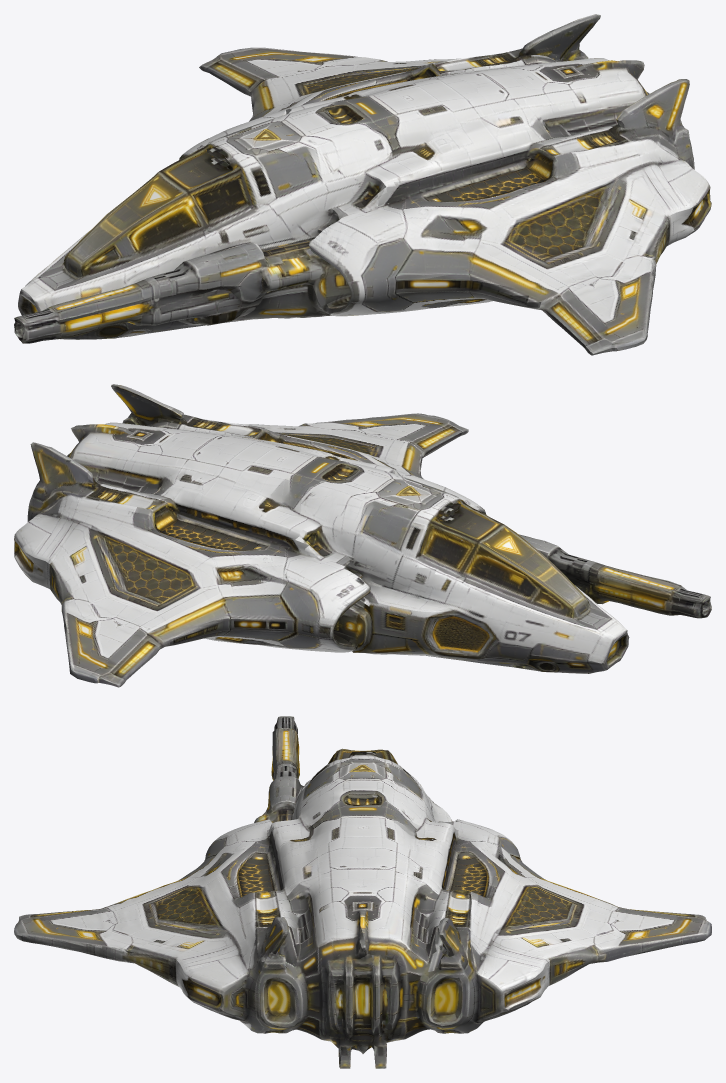
Rendered from puncture.glb.
The picture shows the model from 3 angles, top to bottom: view 1: azimuth 30°, elevation 25°; view 2: azimuth 150°, elevation 25°; view 3: azimuth 270°, elevation 25°; orthographic projection. The views are drawn at different scales.
Parts seen in each view (by area): view 1: Mesh0; view 2: Mesh0; view 3: Mesh0.
Boxes of the visible parts, bbox=[...] form: Mesh0: bbox=[14, 14, 711, 355]; Mesh0: bbox=[14, 384, 711, 687]; Mesh0: bbox=[14, 716, 711, 1068].
Size of the model in its own units: 1.86 by 0.46 by 1.91.
1 material, 1 textured.
